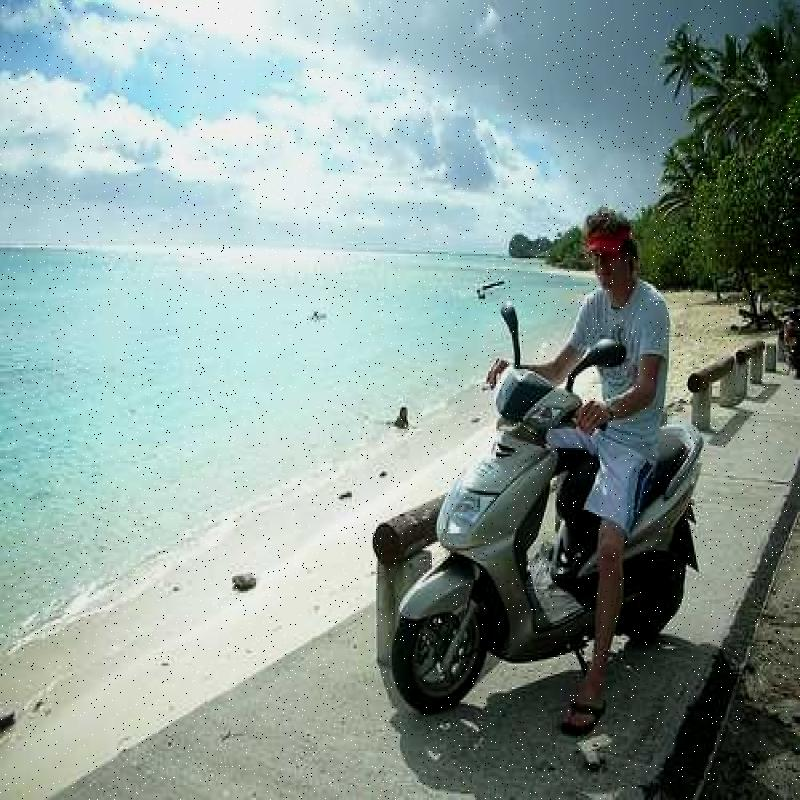bike: (376, 299, 698, 686)
